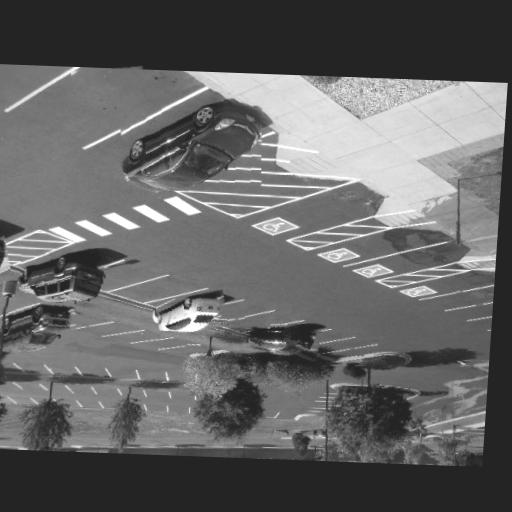busy: (116, 102, 265, 196), (18, 251, 112, 304), (0, 301, 78, 356), (154, 291, 229, 338), (247, 320, 322, 359), (0, 215, 11, 279)
free: (69, 65, 147, 121), (103, 265, 138, 285), (136, 283, 165, 299), (455, 291, 484, 305), (221, 305, 246, 319), (185, 343, 211, 356), (140, 367, 165, 380), (167, 368, 192, 381), (69, 313, 92, 327), (50, 362, 74, 375), (277, 408, 295, 425), (111, 366, 136, 378), (246, 315, 271, 327), (82, 364, 105, 376), (22, 362, 44, 374), (127, 389, 144, 401), (128, 331, 150, 340), (148, 390, 167, 400), (99, 324, 119, 333), (170, 404, 188, 414), (94, 385, 111, 394), (316, 333, 334, 341), (59, 401, 77, 409), (158, 338, 178, 345), (70, 385, 87, 393), (83, 401, 98, 410), (350, 348, 365, 357), (148, 404, 164, 412), (333, 341, 349, 348), (82, 400, 97, 407), (21, 384, 36, 390)
